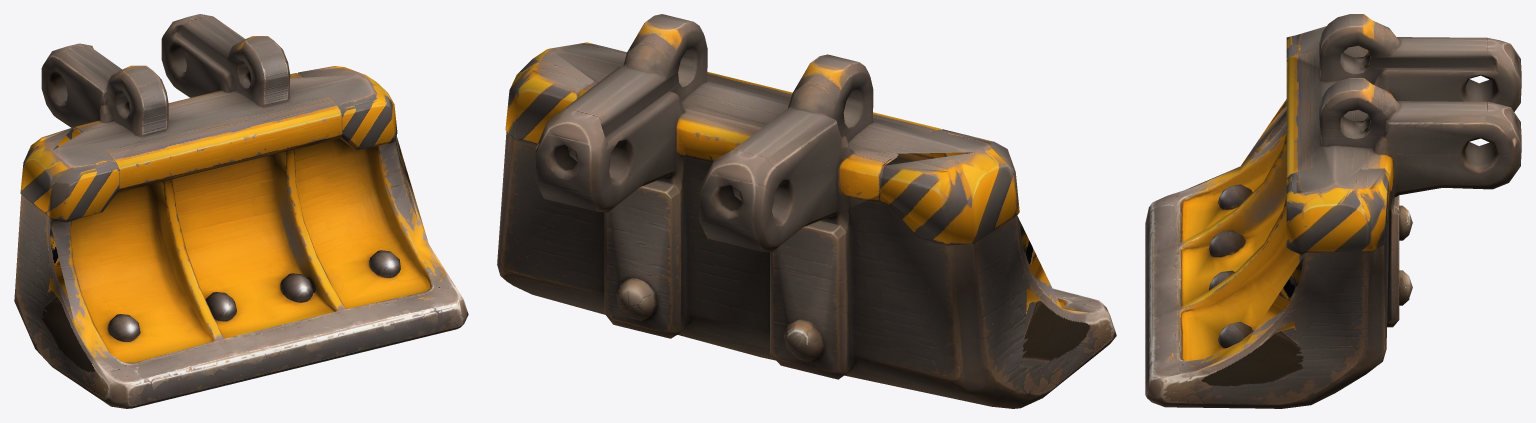
Rendered from LL_PloughShovel.fbx.
3 views of the same model, side by side, from view 1: azimuth 30°, elevation 25°; view 2: azimuth 150°, elevation 25°; view 3: azimuth 270°, elevation 25° (orthographic). The views are drawn at different scales.
Parts seen in each view (by area): view 1: tripo_node_03923ce0; view 2: tripo_node_03923ce0; view 3: tripo_node_03923ce0.
Part boxes in pixels (left/top/right/bottom): tripo_node_03923ce0: left=14, top=14, right=468, bottom=408; tripo_node_03923ce0: left=497, top=14, right=1116, bottom=408; tripo_node_03923ce0: left=1145, top=14, right=1521, bottom=408.
Bounding box in the file's own units: 97.77 × 79.4 × 61.42.
Materials: 1 (1 with a texture image).
